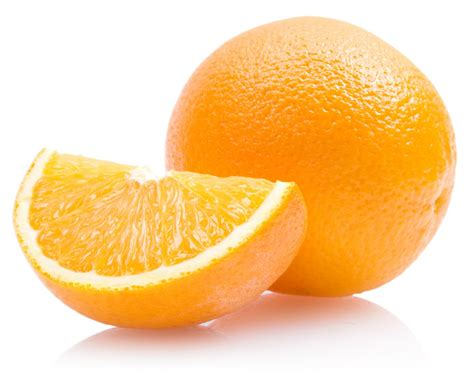orange: (160, 14, 458, 300)
